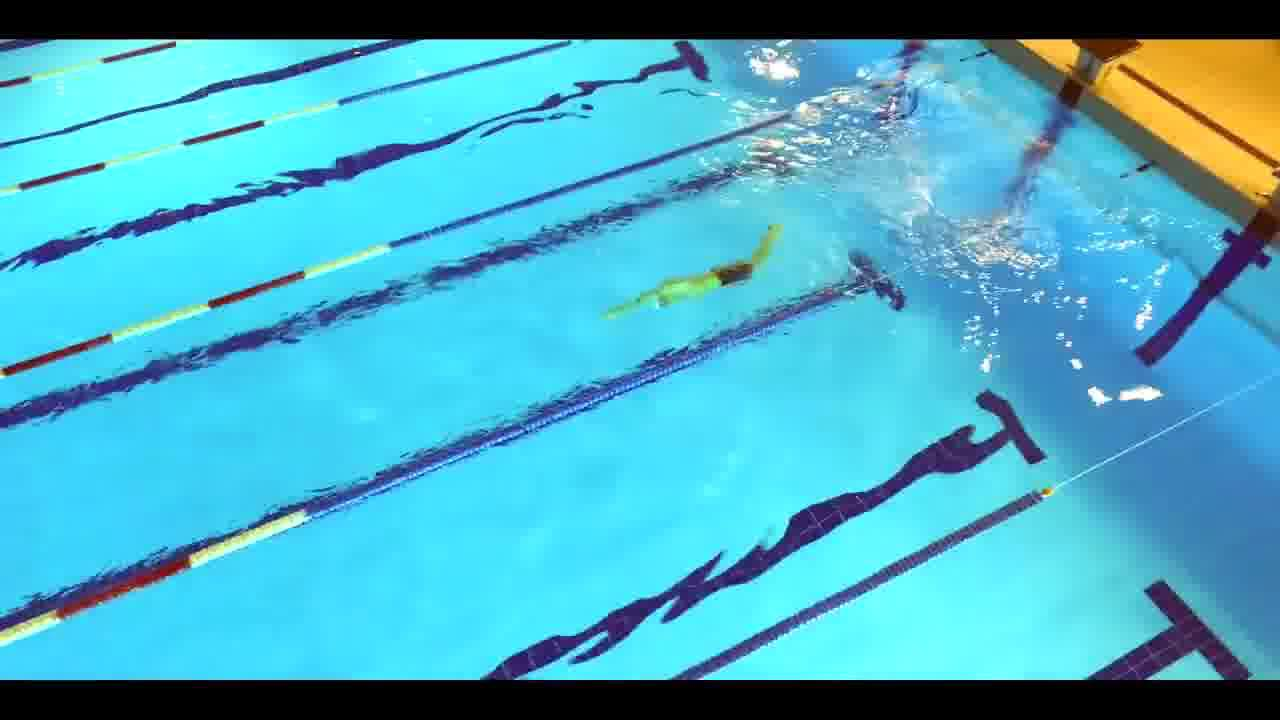swimmer: (576, 220, 784, 325)
